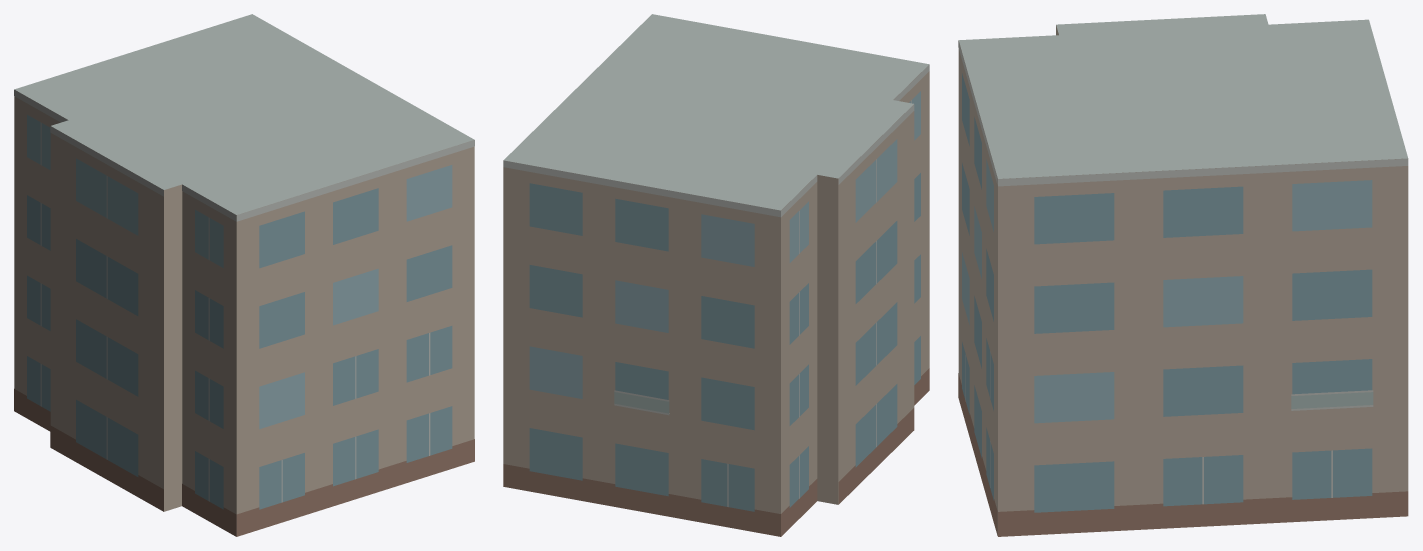
The model's file is survey-upis-33032108.glb.
The picture shows the model from 3 angles, left to right: view 1: azimuth 30°, elevation 25°; view 2: azimuth 150°, elevation 25°; view 3: azimuth 270°, elevation 25°; orthographic projection. The views are drawn at different scales.
Visible parts, largest first — view 1: survey-upis-33032108.tmp; view 2: survey-upis-33032108.tmp; view 3: survey-upis-33032108.tmp.
Part boxes in pixels (left/top/right/bottom): survey-upis-33032108.tmp: left=14, top=14, right=474, bottom=536; survey-upis-33032108.tmp: left=503, top=14, right=929, bottom=536; survey-upis-33032108.tmp: left=958, top=14, right=1408, bottom=536.
Bounding box in the file's own units: 11.63 × 11.75 × 13.39.
